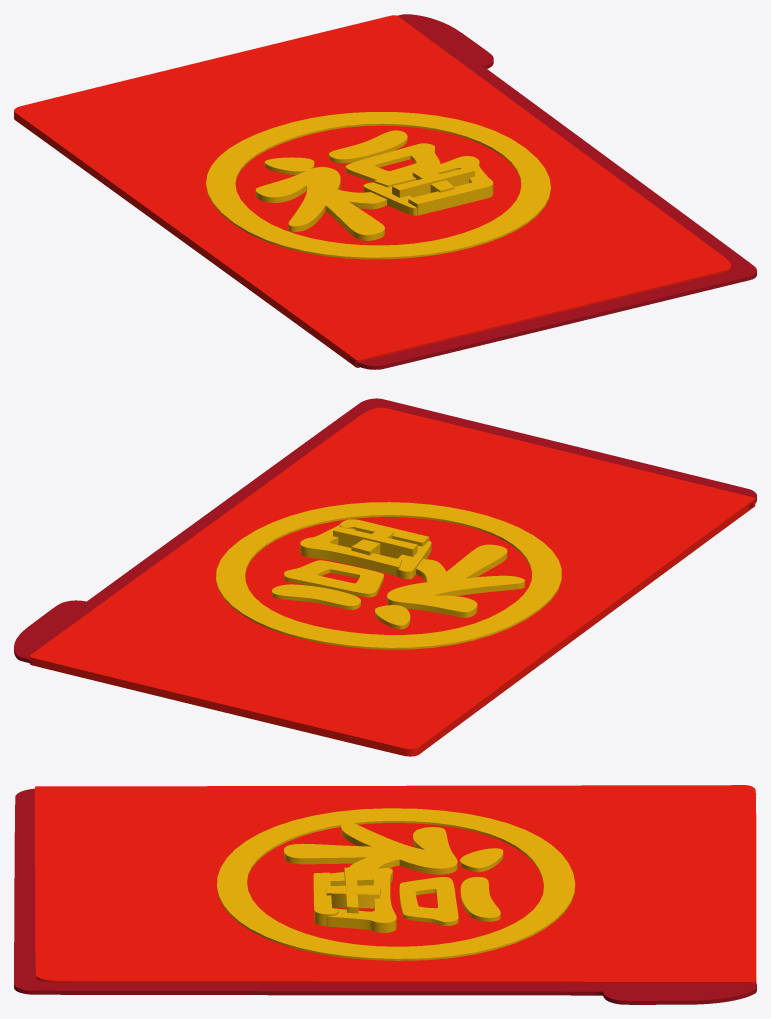
The model's file is emoji_u1f9e7.glb.
3 views of the same model, one above another, from view 1: azimuth 30°, elevation 25°; view 2: azimuth 150°, elevation 25°; view 3: azimuth 270°, elevation 25° (orthographic). The views are drawn at different scales.
Parts seen in each view (by area): view 1: emoji_u1f9e7; view 2: emoji_u1f9e7; view 3: emoji_u1f9e7.
Part boxes in pixels (<box>): emoji_u1f9e7: <box>14,14,756,369</box>; emoji_u1f9e7: <box>14,398,756,756</box>; emoji_u1f9e7: <box>14,785,756,1004</box>.
Bounding box in the file's own units: 0.023 × 0.002 × 0.0337.
